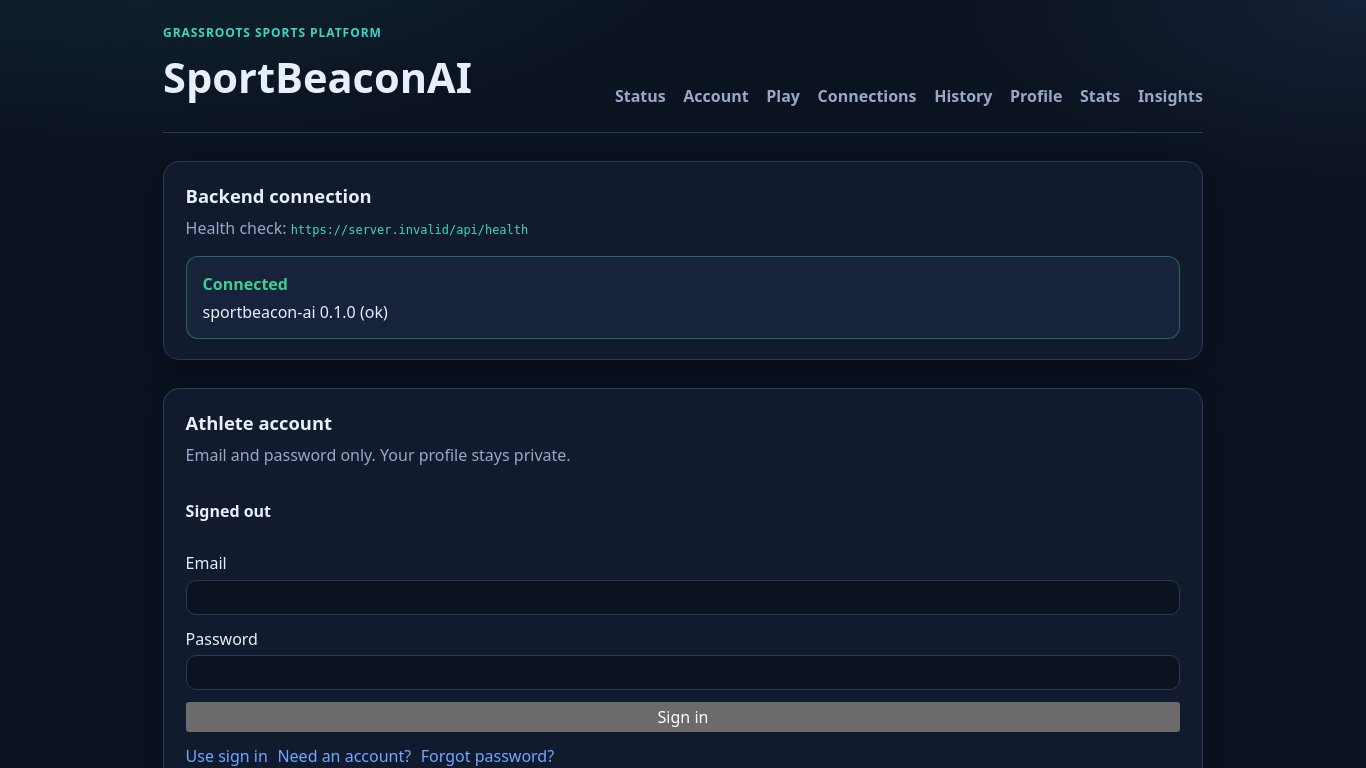
Test case: SportBeaconAI athlete workspace › signs in and signs out without storing a token
Type "ada@example.com" into the field labelled "Email" at (683, 597), box x1=186 y1=580 x2=1180 y2=615
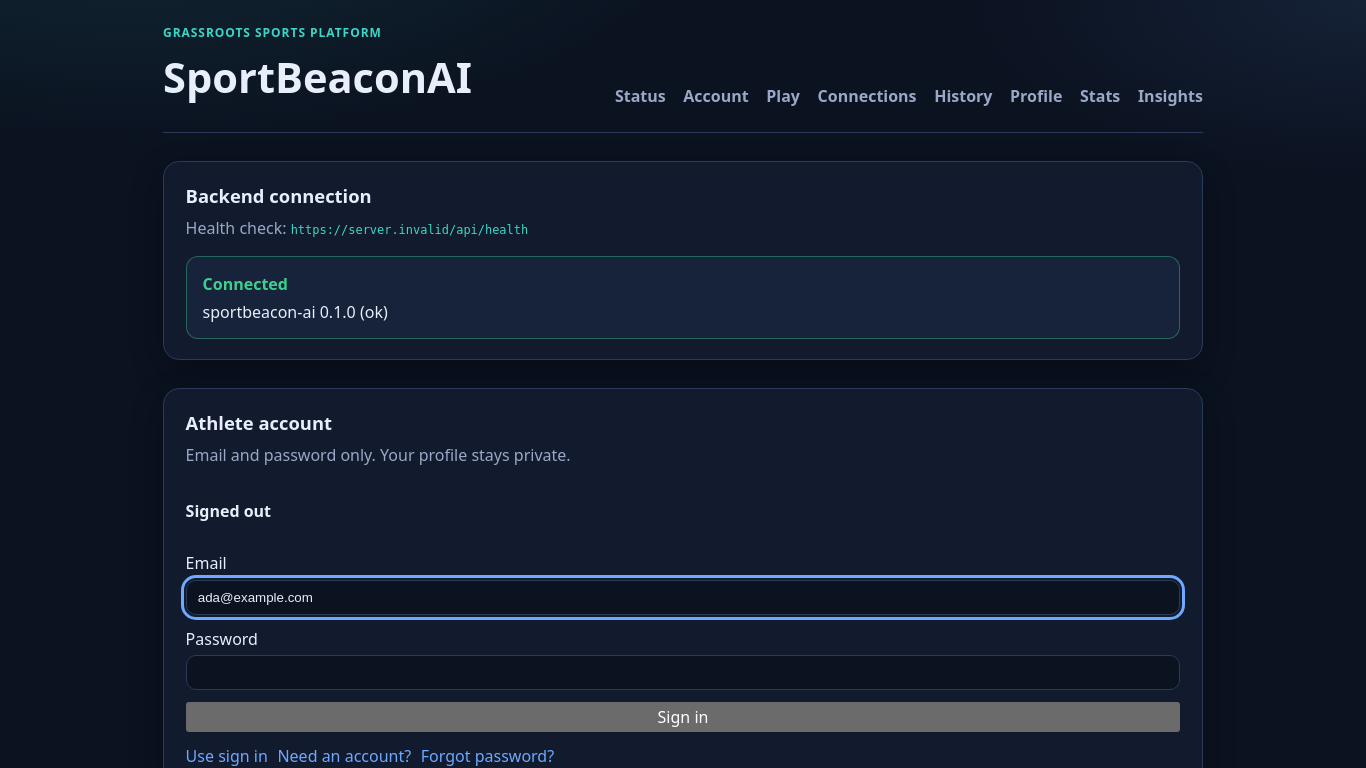
Type "secret1" into the password field labelled "Password" at (683, 673), box x1=186 y1=655 x2=1180 y2=690
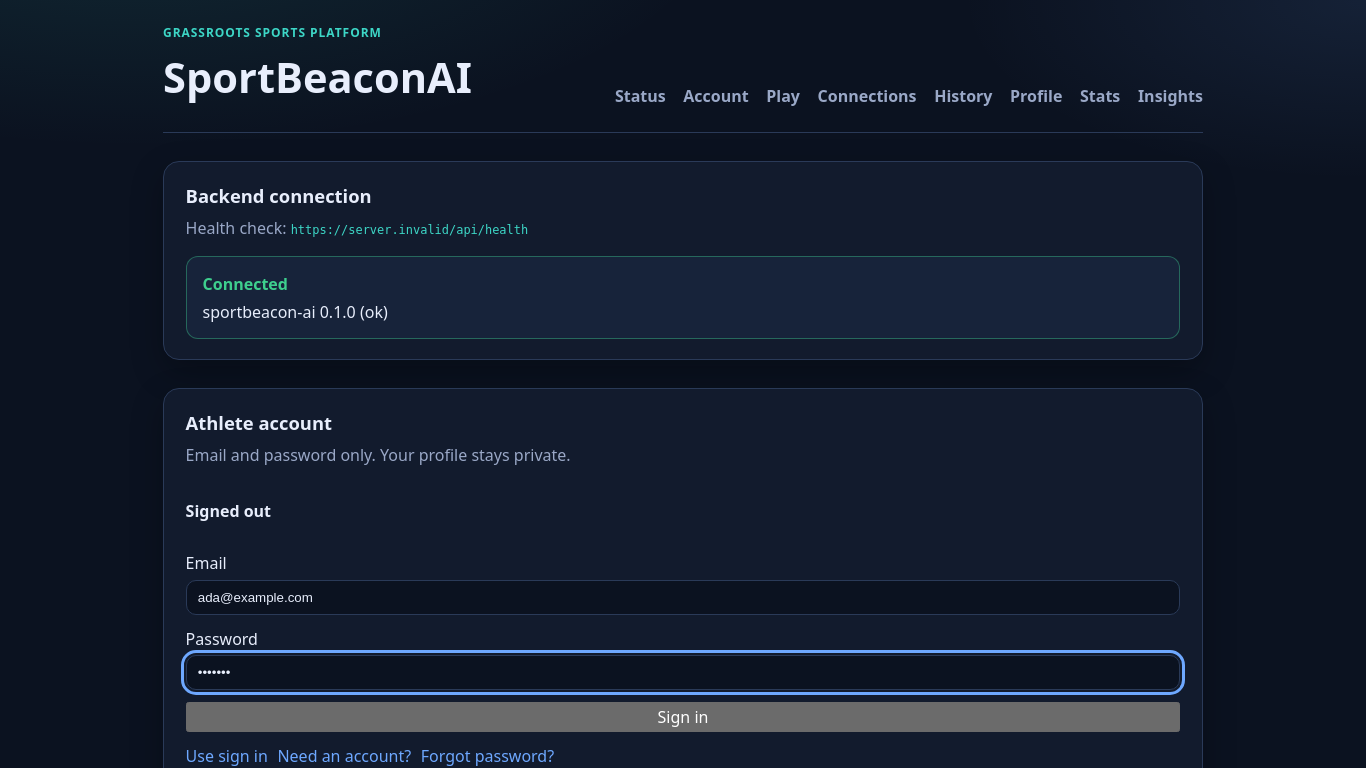
Click the button "Sign in" at (683, 717), box x1=186 y1=702 x2=1180 y2=732
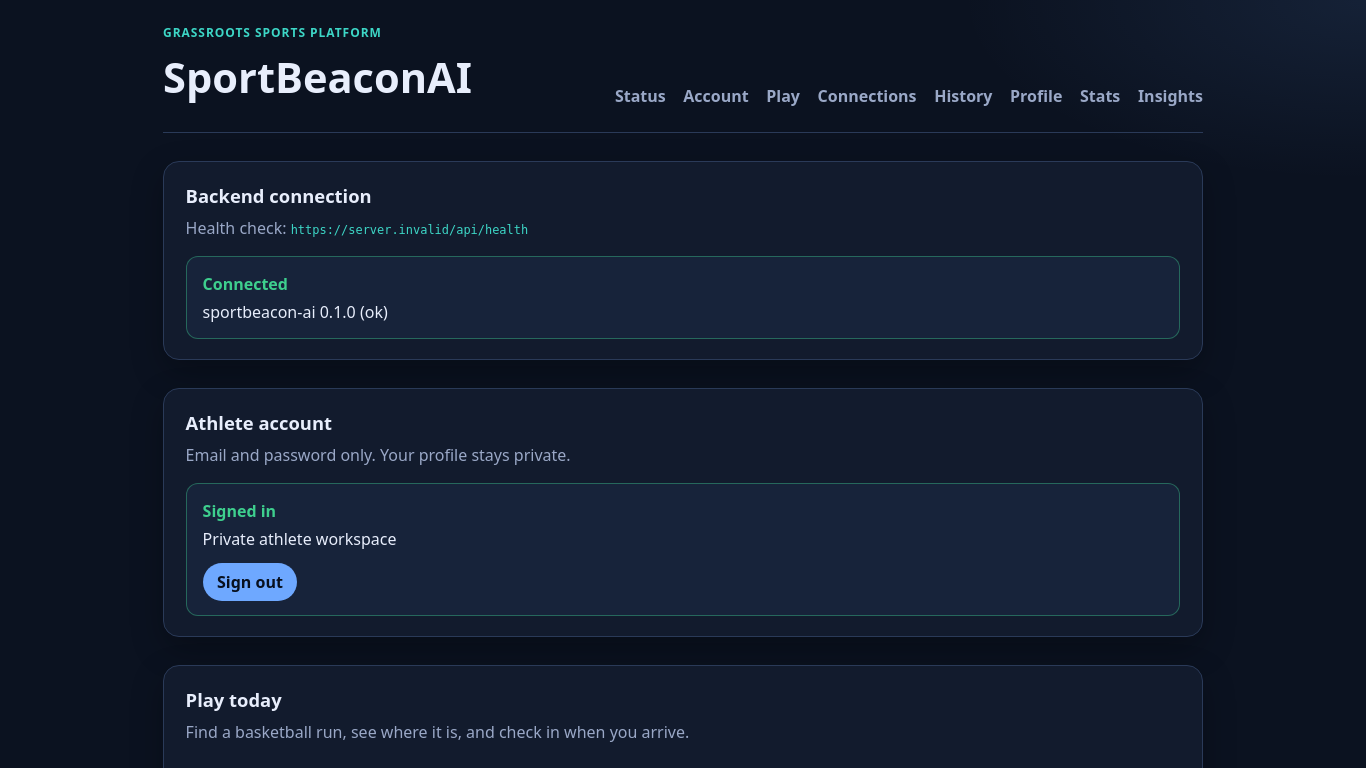
Result: the text "Signed in" is shown at x1=203 y1=500 x2=276 y2=522
Click the button "Sign out" at (250, 582), box x1=203 y1=563 x2=297 y2=601
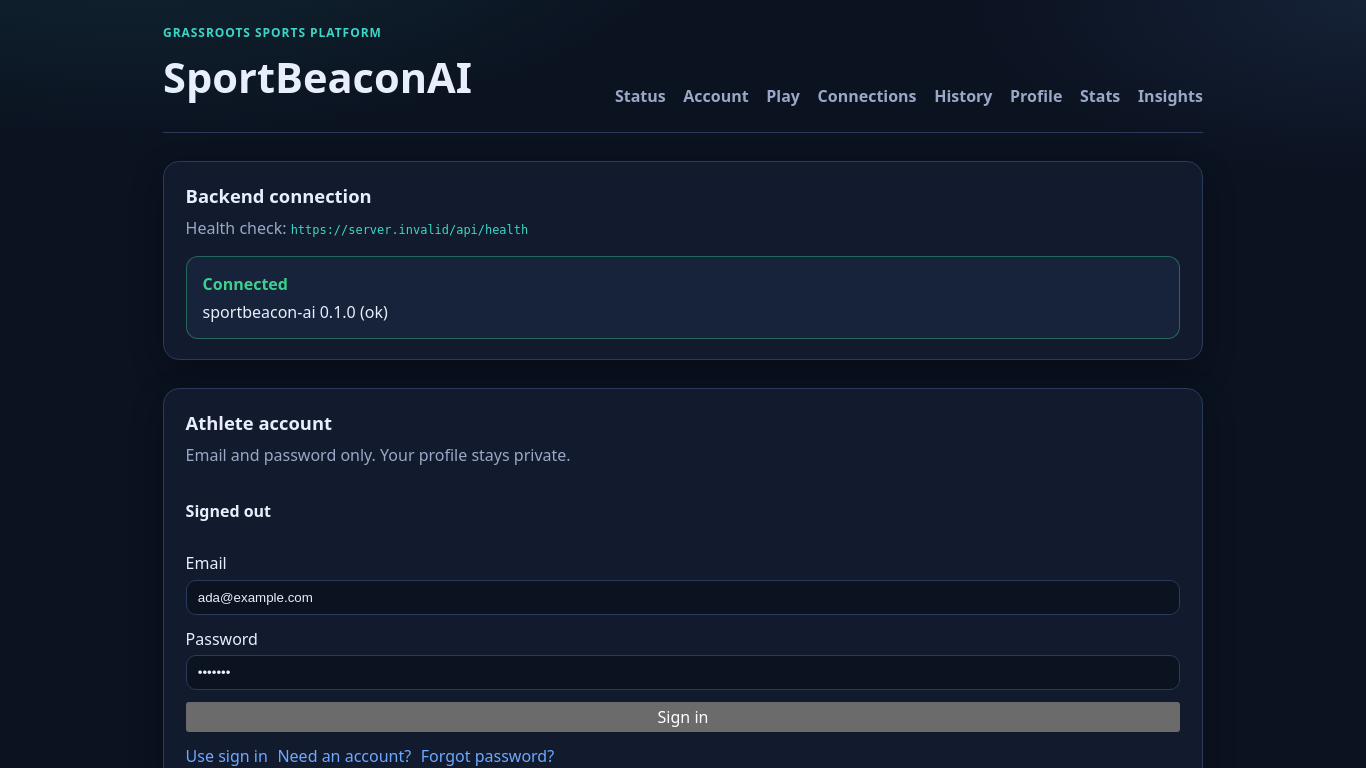
Result: the text "Signed out" is shown at x1=186 y1=500 x2=271 y2=522
